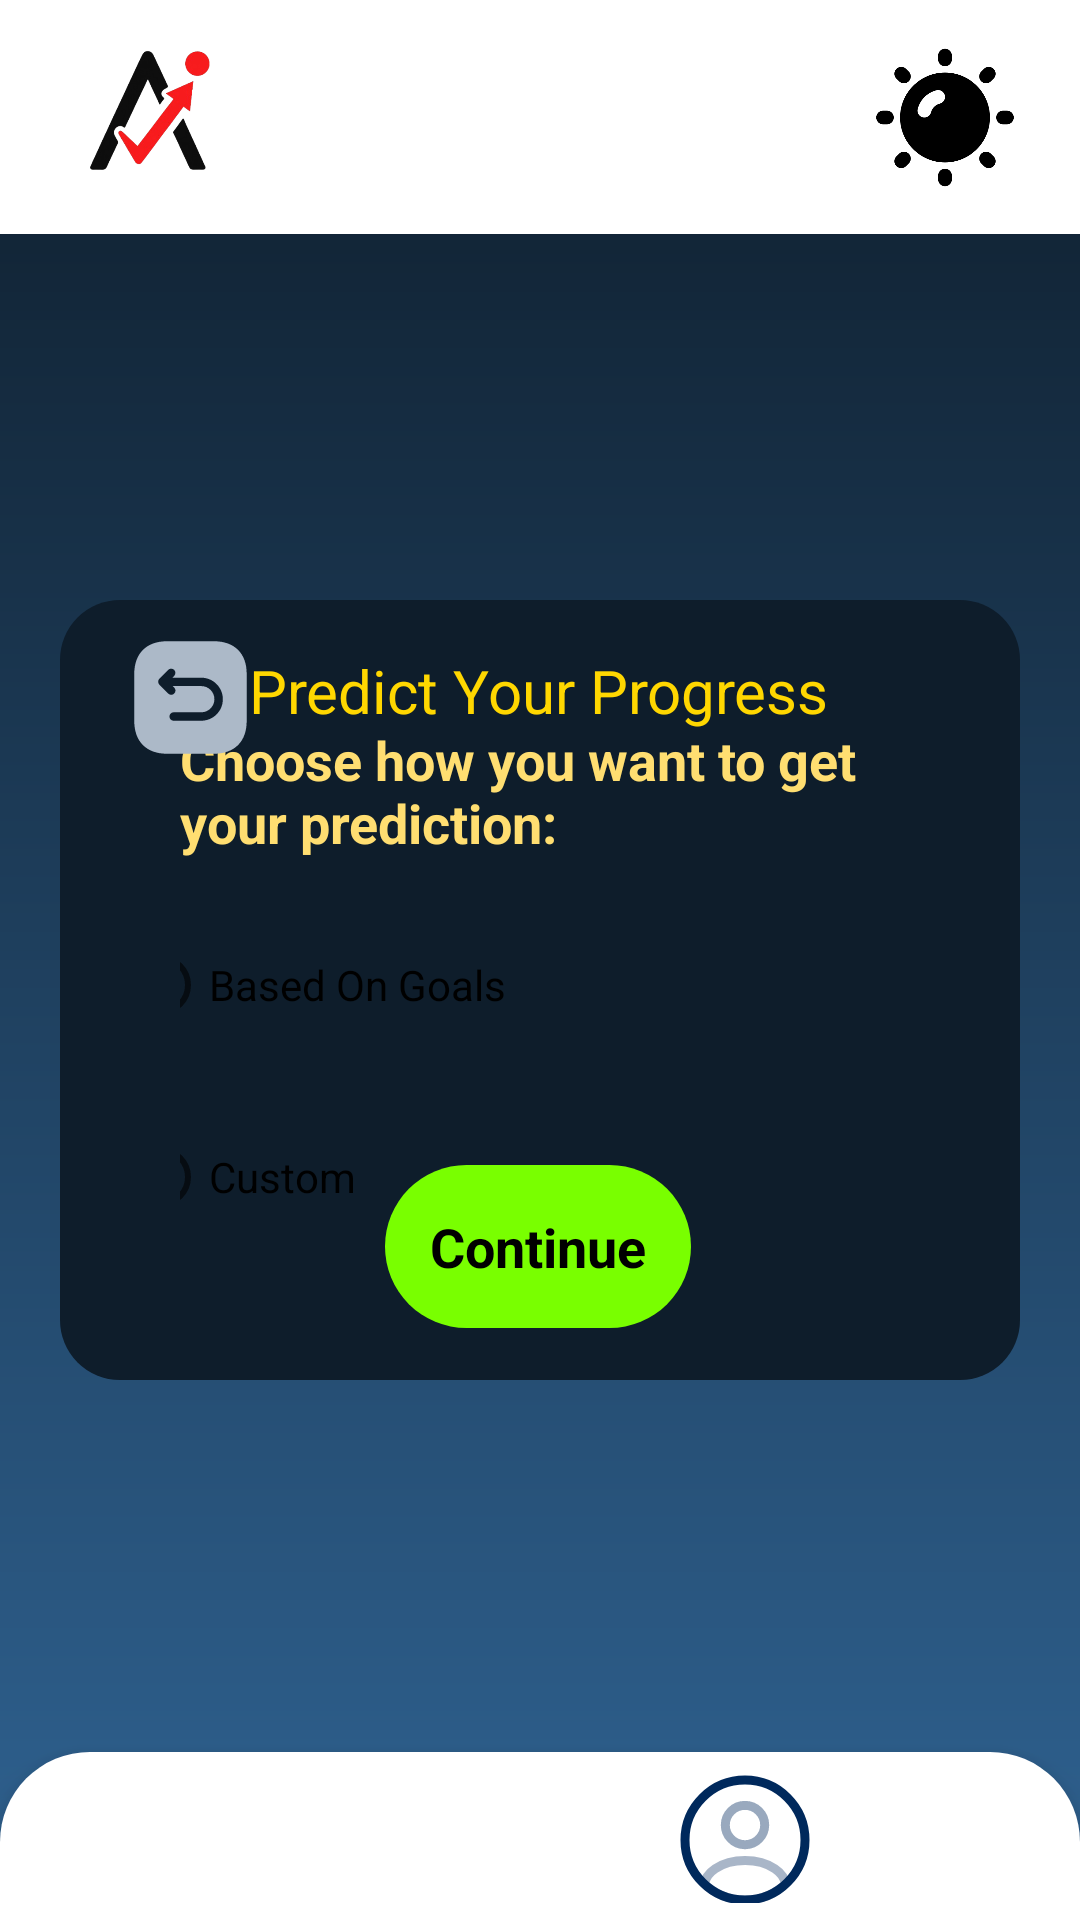

Screen size 1080px×1920px. Icon name, then its box in pixels as [left=x1, top=y1, right=x2, bottom=y2]:
profile: [left=680, top=1775, right=810, bottom=1903]
summer: [left=876, top=48, right=1014, bottom=187]
